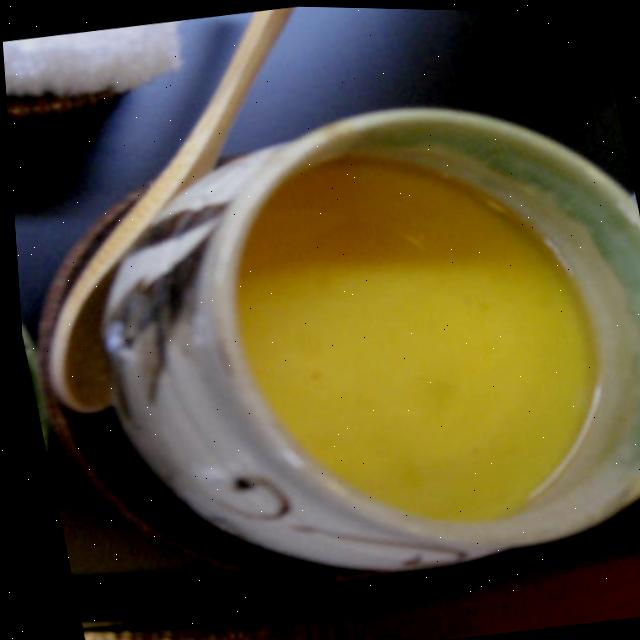鸡蛋料理: (67, 101, 640, 565)
